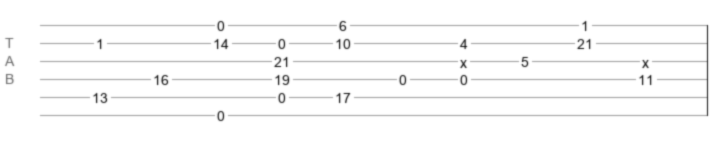0: (217, 108, 225, 118), (217, 18, 225, 28), (278, 36, 286, 46), (278, 90, 286, 100), (399, 72, 407, 82), (460, 72, 468, 82)
1: (96, 36, 104, 46), (581, 18, 589, 28)
10: (335, 36, 351, 46)
11: (638, 72, 654, 82)
13: (92, 90, 108, 100)
14: (213, 36, 229, 46)
16: (153, 72, 169, 82)
17: (335, 90, 351, 100)
19: (274, 72, 290, 82)
21: (274, 54, 290, 64), (577, 36, 593, 46)
4: (460, 36, 468, 46)
5: (521, 54, 529, 64)
6: (339, 18, 347, 28)
x: (460, 55, 467, 63), (642, 55, 649, 63)
